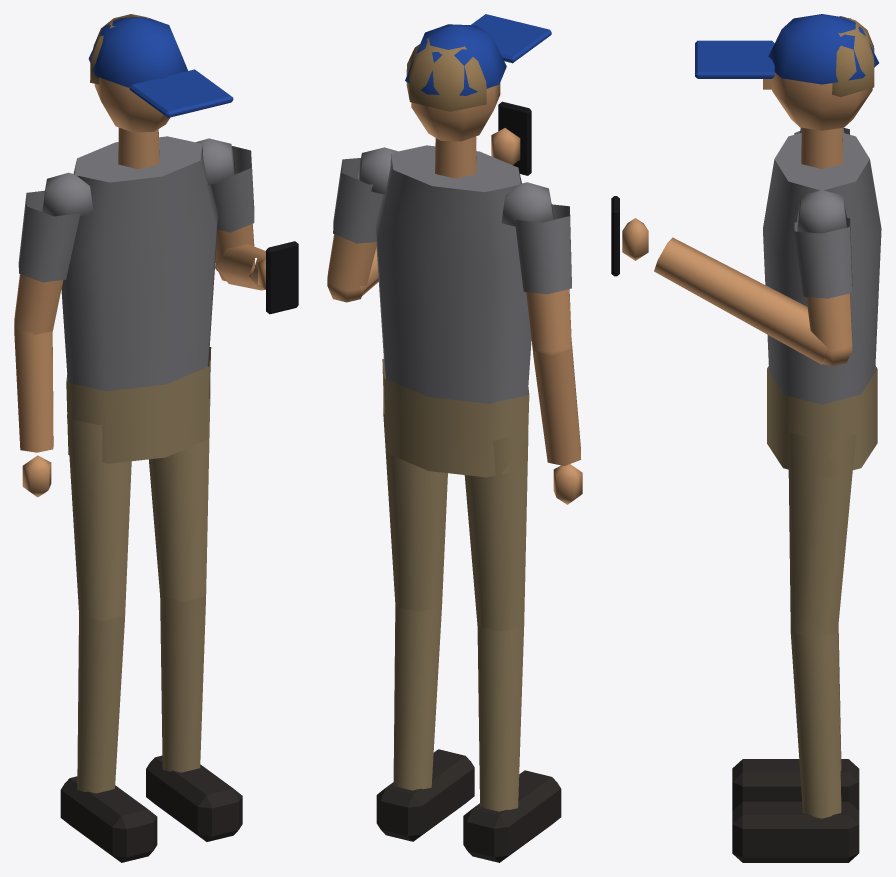
The model's file is fan_h.dae.
3 views of the same model, side by side, from view 1: azimuth 30°, elevation 25°; view 2: azimuth 150°, elevation 25°; view 3: azimuth 270°, elevation 25° (orthographic). The views are drawn at different scales.
Parts seen in each view (by area): view 1: marker; view 2: marker; view 3: marker.
Part boxes in pixels (x1=…): marker: x1=14, y1=14, x2=298, y2=862; marker: x1=327, y1=14, x2=582, y2=862; marker: x1=611, y1=14, x2=881, y2=862.
Size of the model in its own units: 0.5404 by 0.5101 by 1.71.
Materials: 1 (1 with a texture image).
